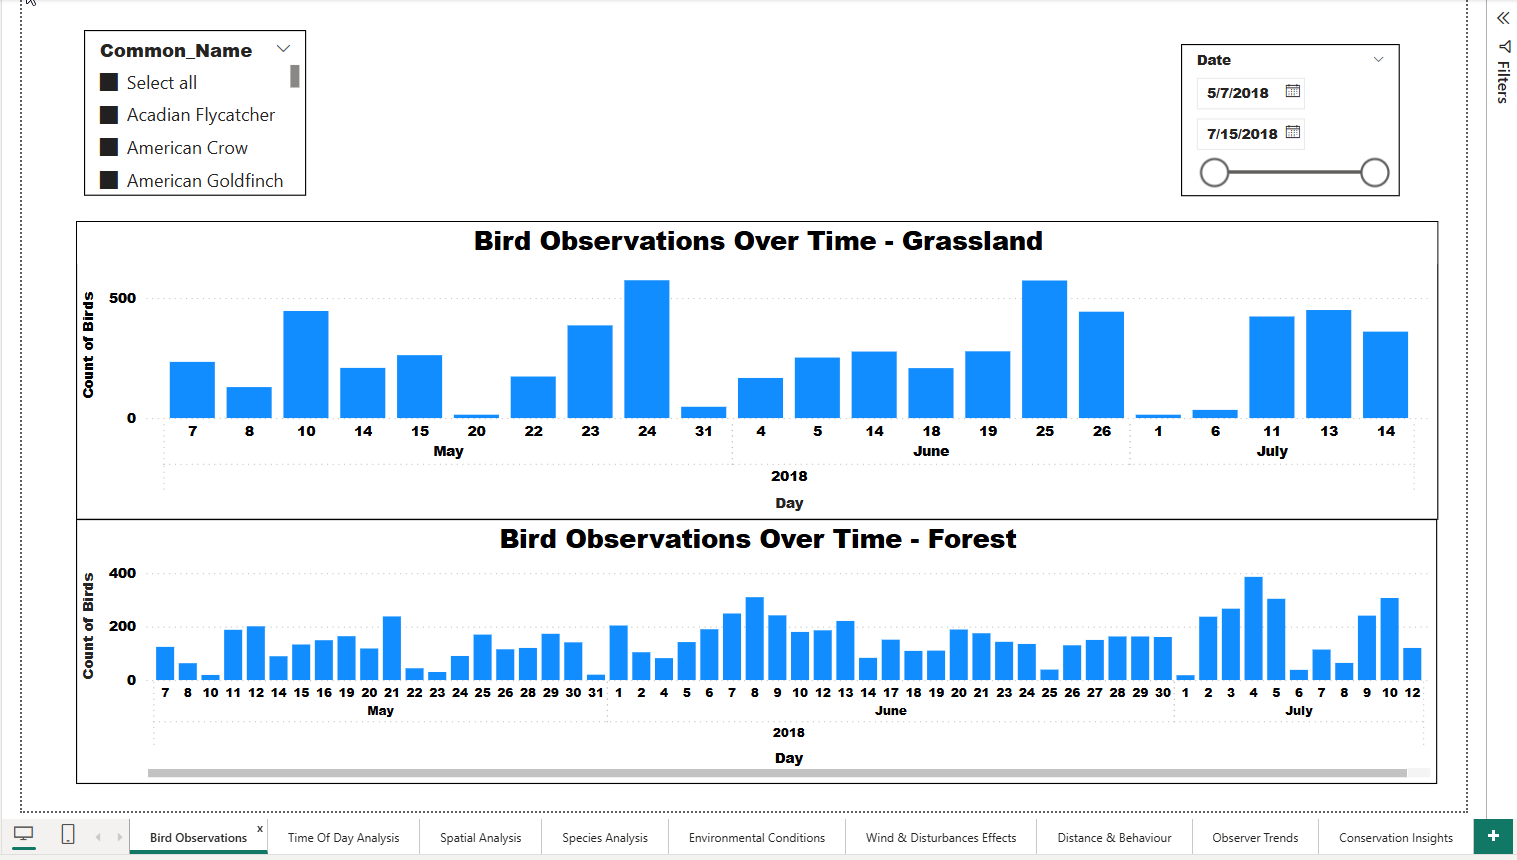

What the dashboard file says about the page in this screenshot:
{"tool":"powerbi","page":{"name":"Bird Observations ","canvas":[1280,720],"ordinal":0},"visuals":[{"type":"columnChart","title":"Bird Observations Over Time - Grassland","fields":{"Y":["CountNonNull(birdobservation_db grassland_bird_observations.Observation_ID)"],"Category":["DateTable.Date.Variation.Date Hierarchy.Year","DateTable.Date.Variation.Date Hierarchy.Month","DateTable.Date.Variation.Date Hierarchy.Day"]},"box":[47.8,196.5,1207.7,264.7],"z":0},{"type":"columnChart","title":"Bird Observations Over Time - Forest","fields":{"Y":["CountNonNull(birdobservation_db forest_bird_observations.Observation_ID)"],"Category":["DateTable.Date.Variation.Date Hierarchy.Year","DateTable.Date.Variation.Date Hierarchy.Month","DateTable.Date.Variation.Date Hierarchy.Day"]},"box":[47.8,461.3,1207.3,234.8],"z":1000},{"type":"slicer","fields":{"Values":["BirdSpecies.Common_Name"]},"box":[54.6,27.3,196.5,147.4],"z":2000},{"type":"slicer","fields":{"Values":["DateTable.Date"]},"box":[1027.5,39.6,193.8,135.1],"z":3000}]}

Visuals, with their boxes on the page's 1280x720 design canvas (x1, y1, x2, y2). These are canvas units, not pixel positions in the 1517x860 screenshot, which may show the page scaled, cropped or inside an application window:
"Bird Observations Over Time - Grassland" columnChart: <box>48,196,1256,461</box>
"Bird Observations Over Time - Forest" columnChart: <box>48,461,1255,696</box>
slicer - BirdSpecies.Common_Name: <box>55,27,251,175</box>
slicer - DateTable.Date: <box>1028,40,1221,175</box>
